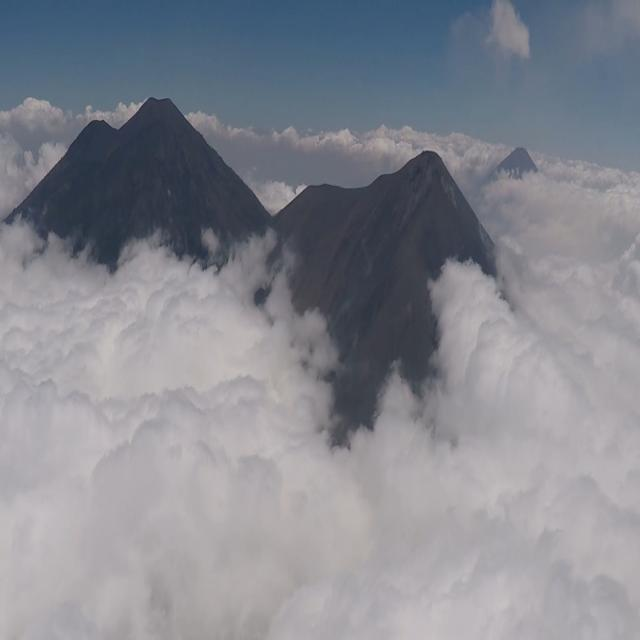Plume: (488, 0, 531, 67)
Summit: (367, 144, 472, 207)
